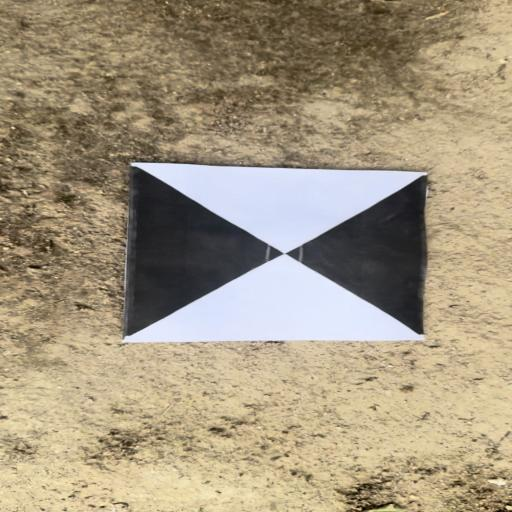target: (125, 166, 428, 343)
